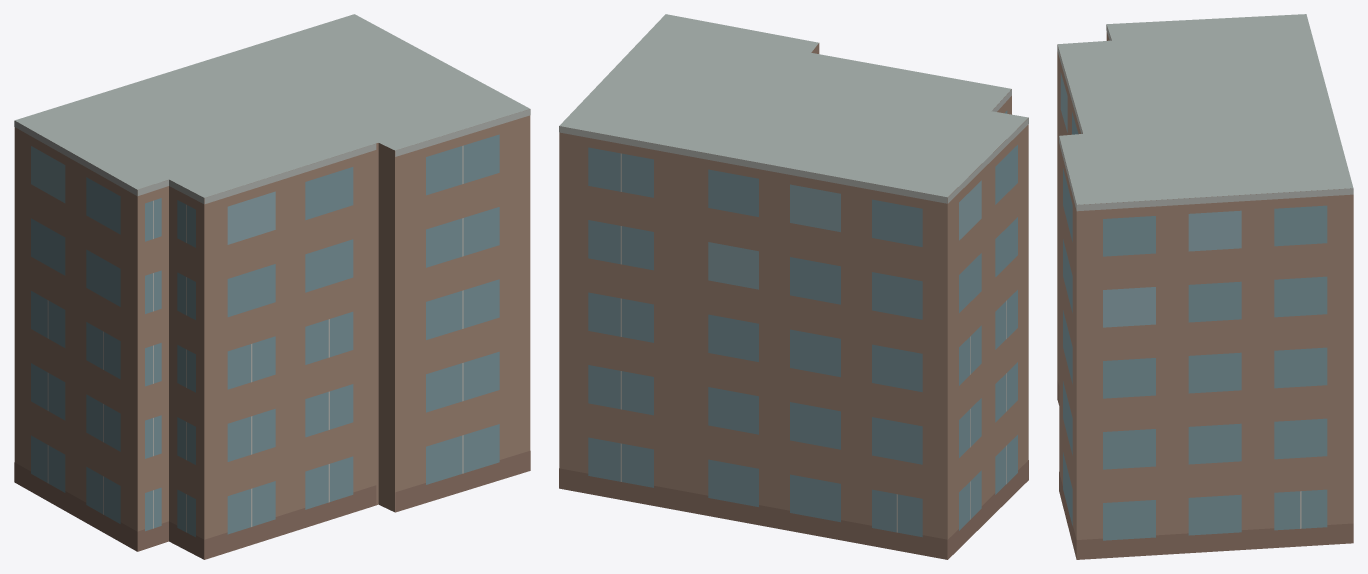
File: survey-upis-32586976.glb
3 views of the same model, side by side, from view 1: azimuth 30°, elevation 25°; view 2: azimuth 150°, elevation 25°; view 3: azimuth 270°, elevation 25° (orthographic). The views are drawn at different scales.
Visible parts, largest first — view 1: survey-upis-32586976.tmp; view 2: survey-upis-32586976.tmp; view 3: survey-upis-32586976.tmp.
Boxes of the visible parts, <box> form: survey-upis-32586976.tmp: <box>14,14,530,559</box>; survey-upis-32586976.tmp: <box>559,14,1028,559</box>; survey-upis-32586976.tmp: <box>1057,14,1353,559</box>.
Size of the model in its own units: 15.69 by 13.6 by 10.29.
